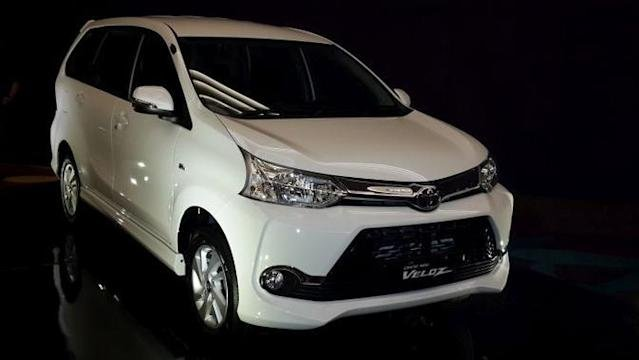mobil: (32, 2, 521, 329)
